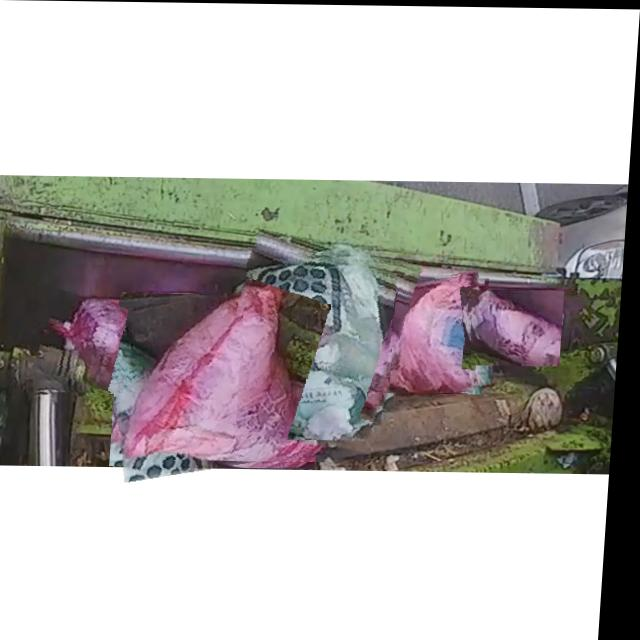general_trashbag: (249, 255, 392, 439)
other_trashbag: (129, 289, 333, 461), (395, 275, 486, 392), (55, 299, 137, 392), (475, 290, 566, 364)
